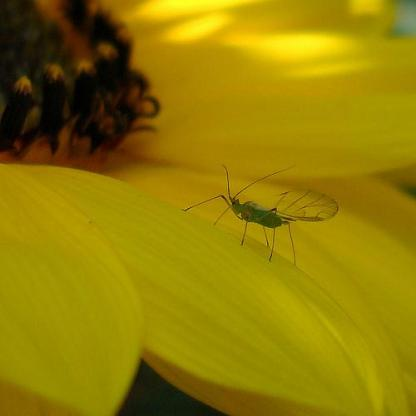aphid: (196, 151, 344, 275)
